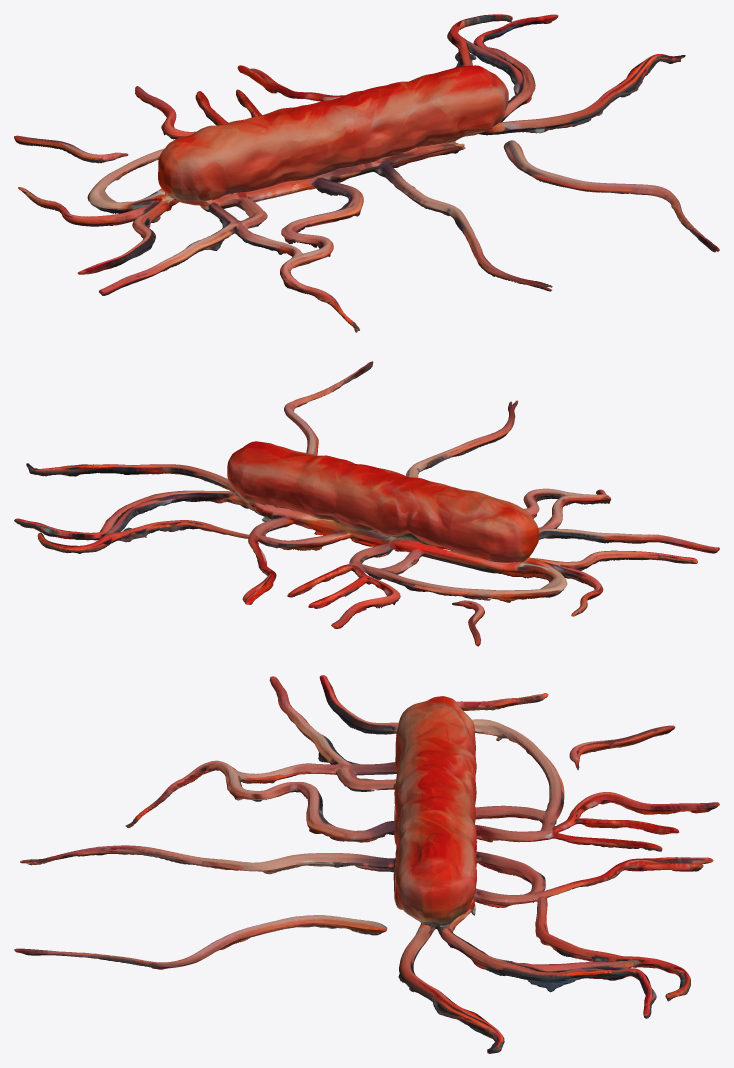
File: listeria-monocytogenes.glb
3 renders of one model, top to bottom at view 1: azimuth 30°, elevation 25°; view 2: azimuth 150°, elevation 25°; view 3: azimuth 270°, elevation 25°, orthographic. The views are drawn at different scales.
Parts seen in each view (by area): view 1: tripo_node_111d99f8-49d4-457d-b1cf-56063a35de1d; view 2: tripo_node_111d99f8-49d4-457d-b1cf-56063a35de1d; view 3: tripo_node_111d99f8-49d4-457d-b1cf-56063a35de1d.
Part boxes in pixels (x1,y1,x2,y2): tripo_node_111d99f8-49d4-457d-b1cf-56063a35de1d: (14,14,719,332); tripo_node_111d99f8-49d4-457d-b1cf-56063a35de1d: (14,361,719,646); tripo_node_111d99f8-49d4-457d-b1cf-56063a35de1d: (14,675,719,1053).
Bounding box in the file's own units: 1 × 0.1464 × 0.7982.
Materials: 1 (1 with a texture image).
